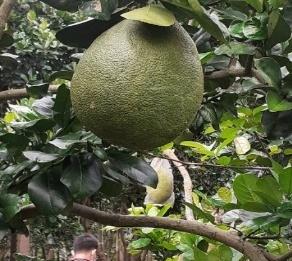Buoi: (67, 13, 199, 145)
